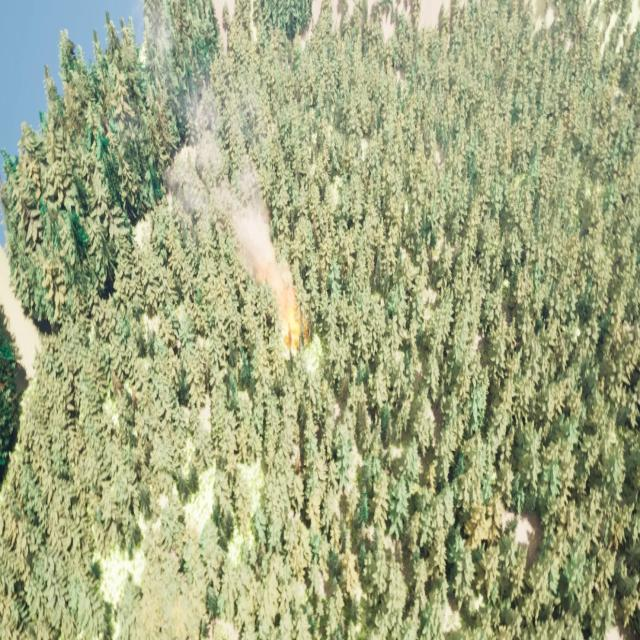fire: (282, 311, 305, 346)
smoke: (175, 109, 295, 323)
